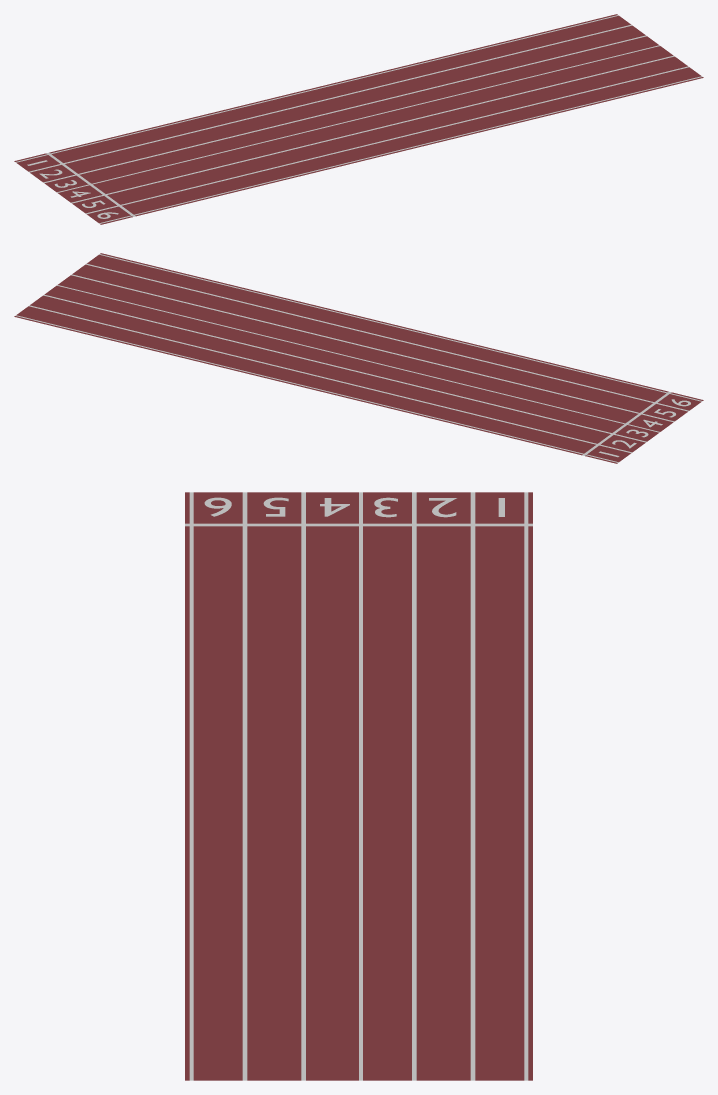
File: RealTrack.fbx
The picture shows the model from 3 angles, top to bottom: view 1: azimuth 30°, elevation 25°; view 2: azimuth 150°, elevation 25°; view 3: azimuth 270°, elevation 25°; orthographic projection. The views are drawn at different scales.
Visible parts, largest first — view 1: Plane, Plane.001; view 2: Plane, Plane.001; view 3: Plane, Plane.001.
Boxes of the visible parts, <box> form: Plane: <box>49,14,703,216</box>; Plane.001: <box>14,152,135,224</box>; Plane: <box>14,253,668,455</box>; Plane.001: <box>582,391,703,463</box>; Plane: <box>185,526,532,1080</box>; Plane.001: <box>185,492,532,526</box>.
Bounding box in the file's own units: 5373 × 0.2076 × 1344.
